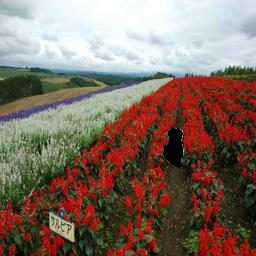Crow: (163, 128, 188, 168)
